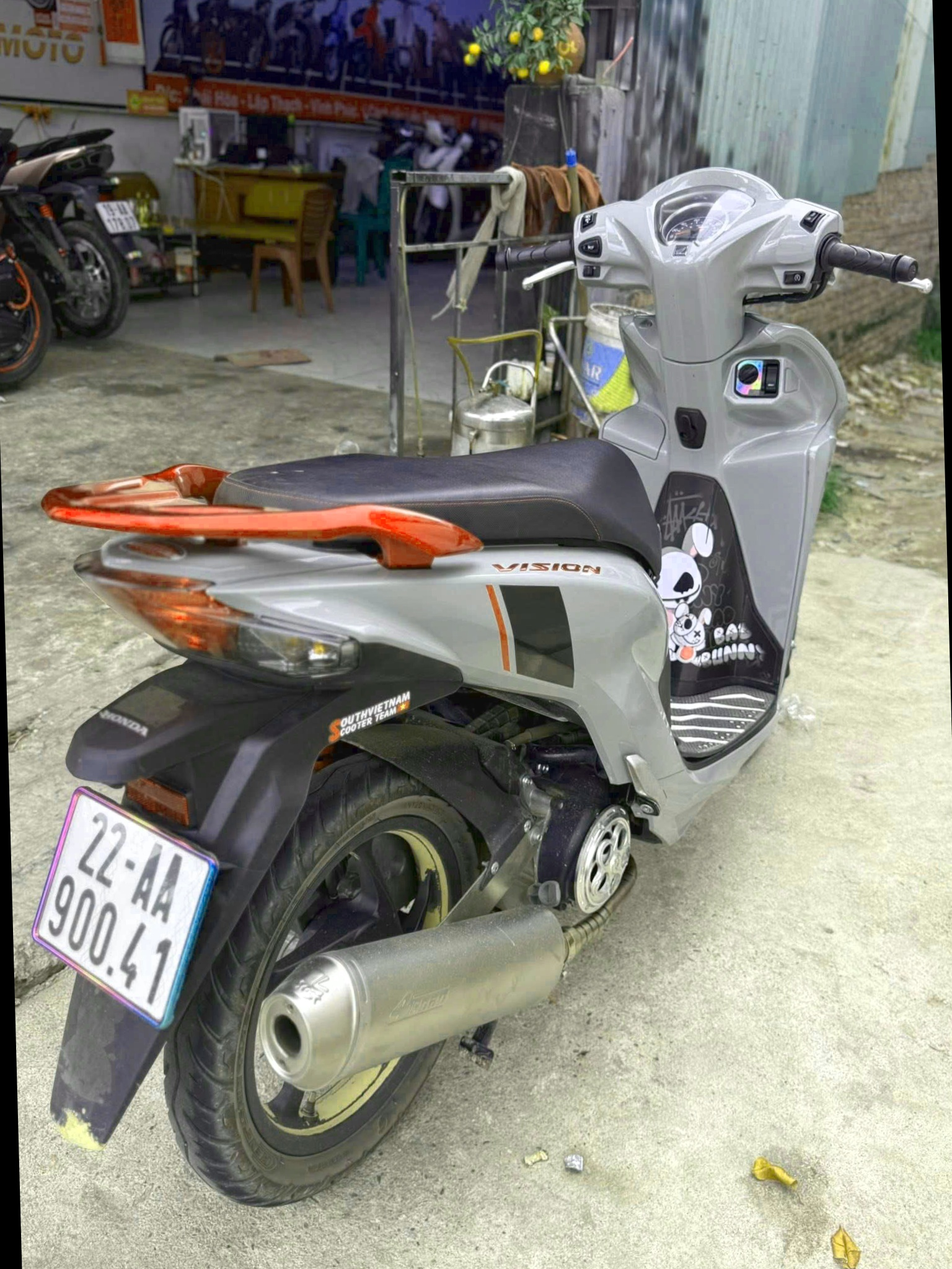Bien-so: (49, 773, 228, 1011)
